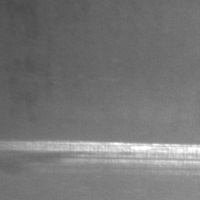scratches: (2, 139, 199, 173)
